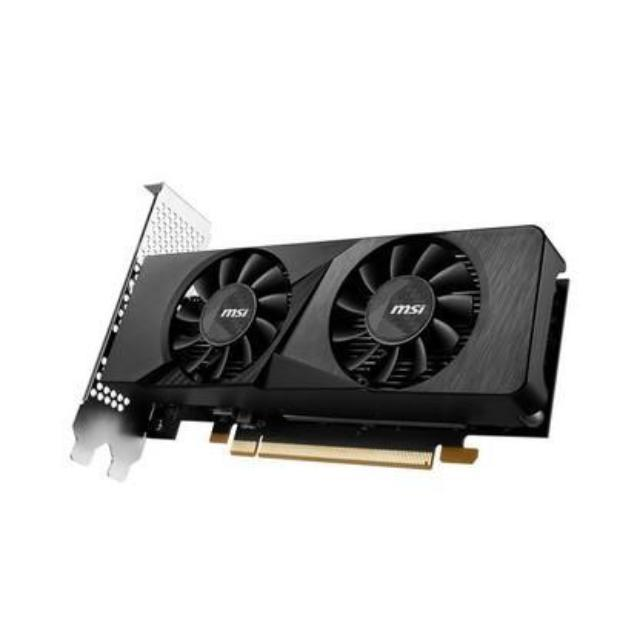GPU: (49, 222, 582, 480)
